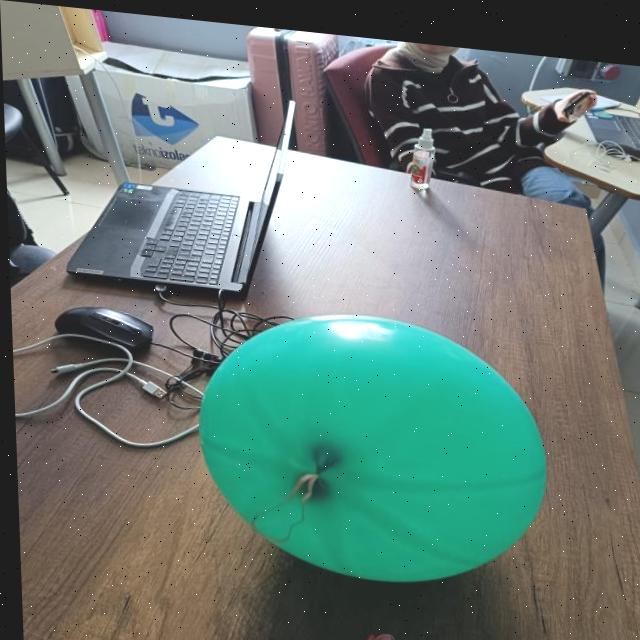balloon: (186, 294, 552, 589)
